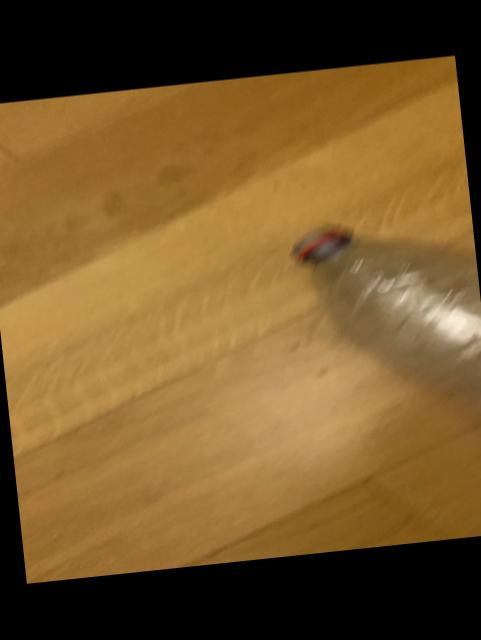plastic: (316, 242, 481, 412)
